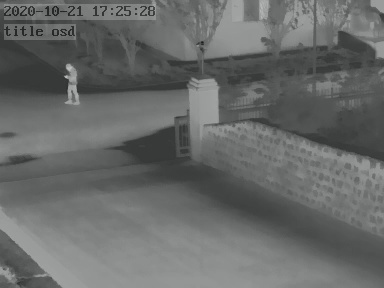person: (64, 61, 80, 103)
